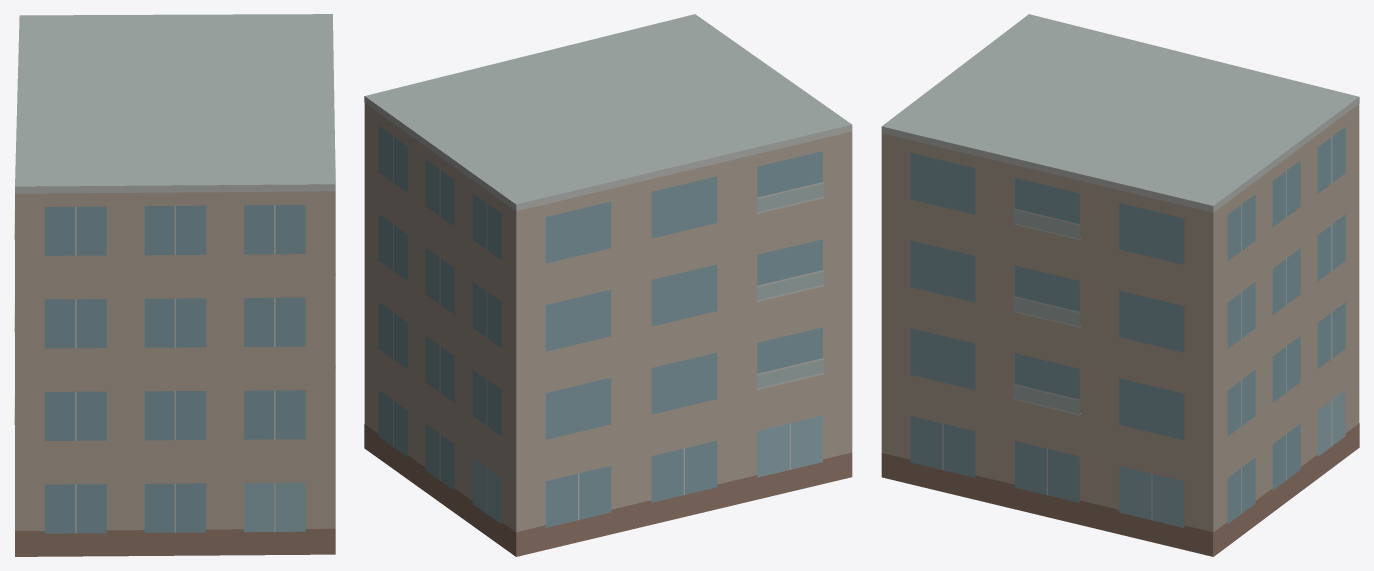
File: survey-upis-32676024.glb
3 renders of one model, left to right at view 1: azimuth 30°, elevation 25°; view 2: azimuth 150°, elevation 25°; view 3: azimuth 270°, elevation 25°, orthographic. The views are drawn at different scales.
Parts seen in each view (by area): view 1: survey-upis-32676024.tmp; view 2: survey-upis-32676024.tmp; view 3: survey-upis-32676024.tmp.
Part boxes in pixels (x1=…): survey-upis-32676024.tmp: x1=14, y1=14, x2=335, y2=556; survey-upis-32676024.tmp: x1=364, y1=14, x2=852, y2=556; survey-upis-32676024.tmp: x1=881, y1=14, x2=1359, y2=556.
Size of the model in its own units: 14.92 by 12.7 by 15.68.
